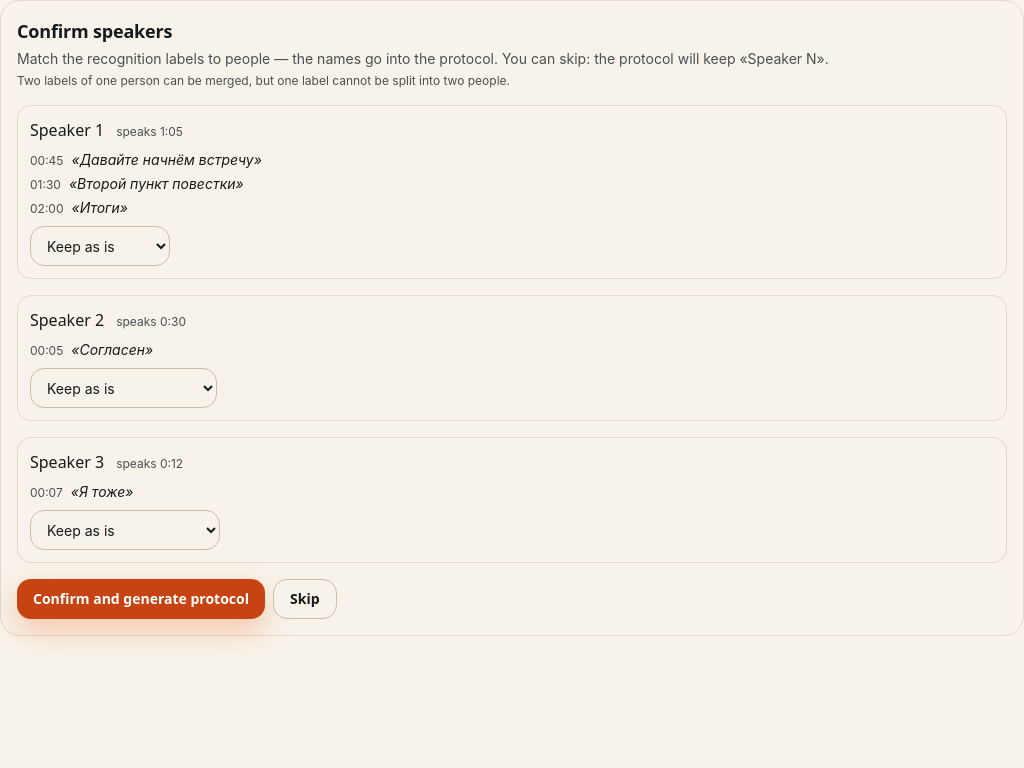
Test: speakers confirmation (AWAITING_SPEAKERS) › blocks «confirm» with an empty name and shows the error
Step 1. Select "Other name…" in the dropdown with test id "speaker-select-SPEAKER_1" → x=124, y=388, box [30,368,217,408]
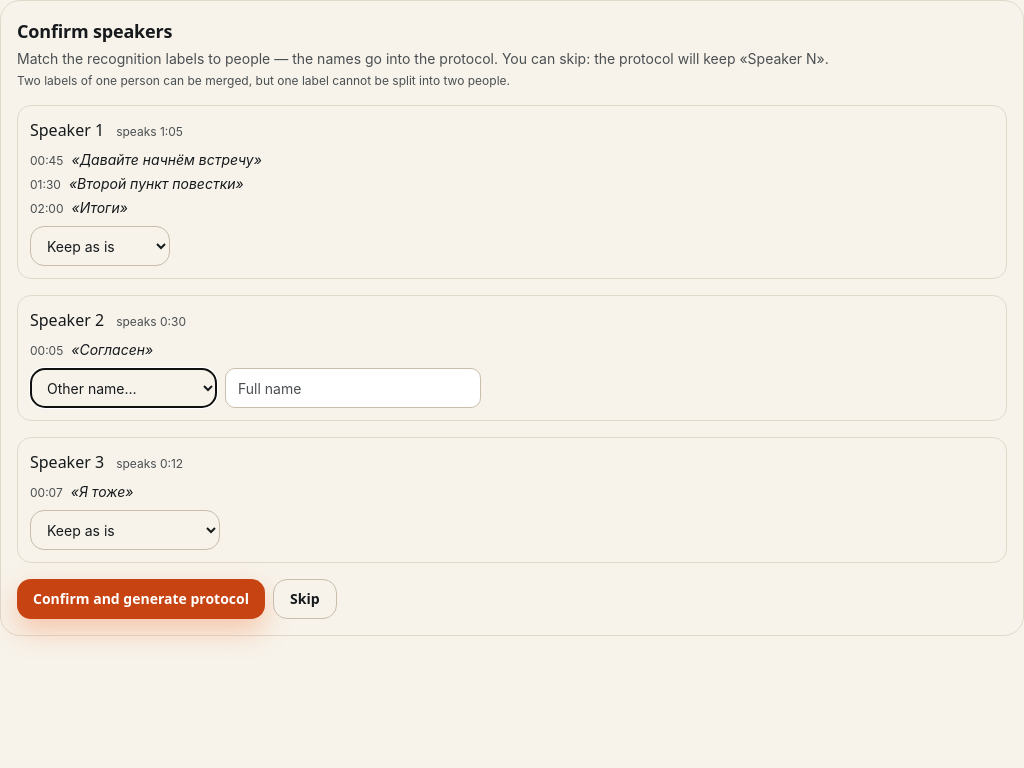
Step 2. Click the button with test id "speakers-confirm" → x=141, y=599, box [17,579,265,619]
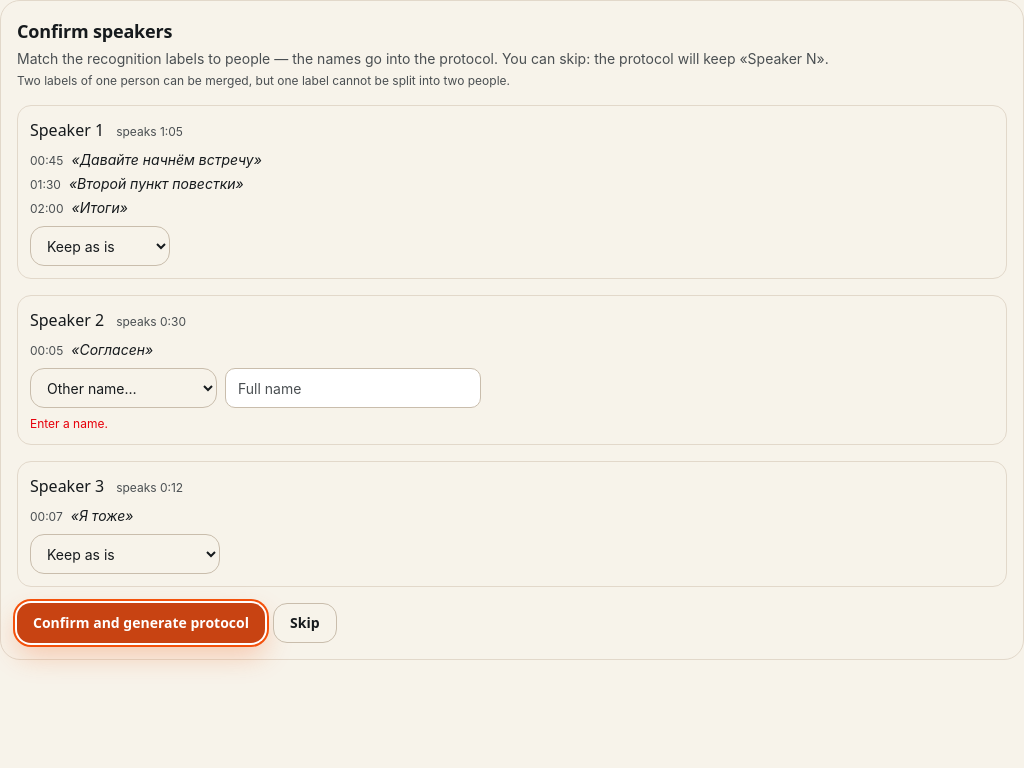
Expected: the message "Enter a name." is shown, [30,416,108,431]
